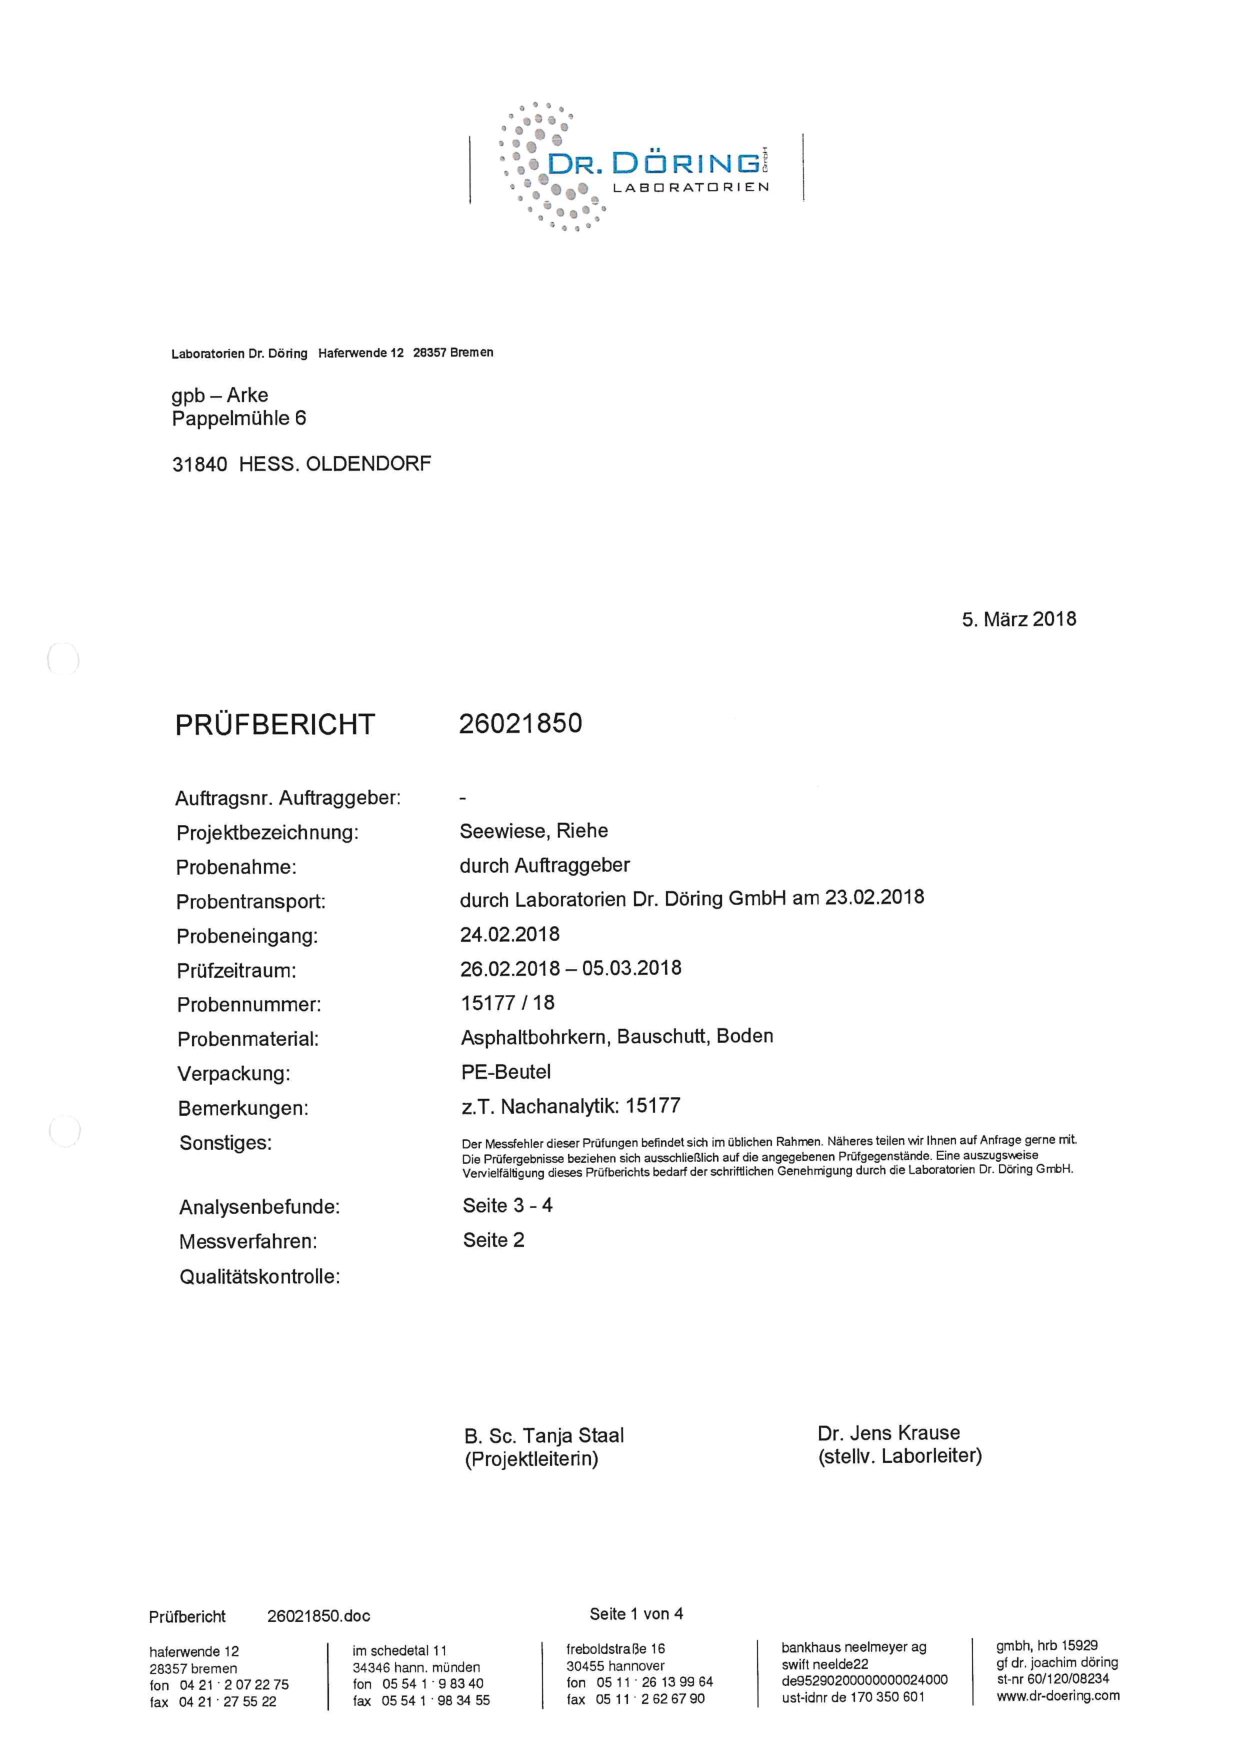table: (161, 768, 1121, 1129)
